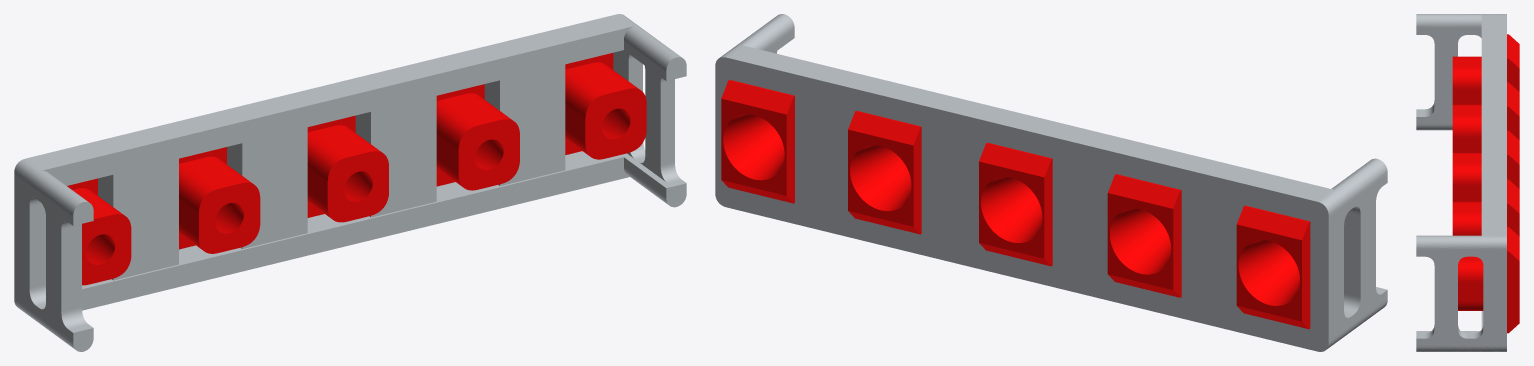
File: Container (1).fbx
3 views of the same model, side by side, from view 1: azimuth 30°, elevation 25°; view 2: azimuth 150°, elevation 25°; view 3: azimuth 270°, elevation 25° (orthographic). The views are drawn at different scales.
Visible parts, largest first — view 1: imagetostl_mesh0, imagetostl_mesh1; view 2: imagetostl_mesh0, imagetostl_mesh1; view 3: imagetostl_mesh0, imagetostl_mesh1.
Boxes of the visible parts, <box> form: imagetostl_mesh0: <box>14,14,686,351</box>; imagetostl_mesh1: <box>67,53,646,285</box>; imagetostl_mesh0: <box>715,14,1387,351</box>; imagetostl_mesh1: <box>721,79,1310,329</box>; imagetostl_mesh0: <box>1416,14,1506,351</box>; imagetostl_mesh1: <box>1452,34,1519,333</box>.
Size of the model in its own units: 15000 by 3500 by 2850.
